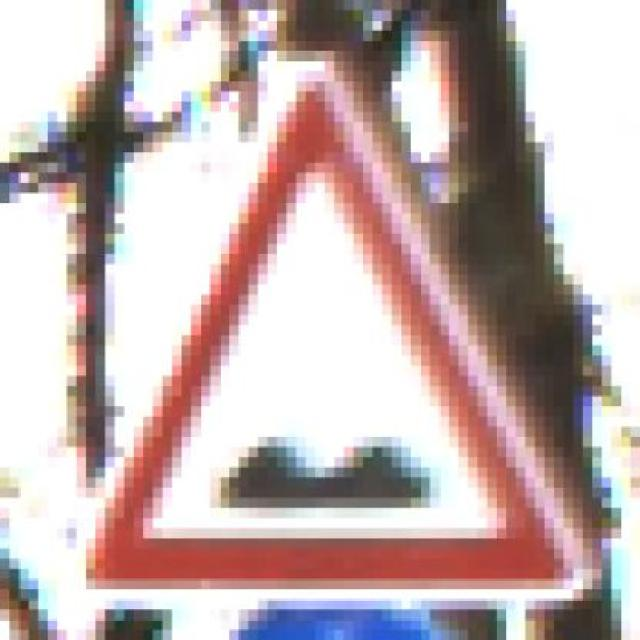Uneven Road: (66, 51, 592, 609)
